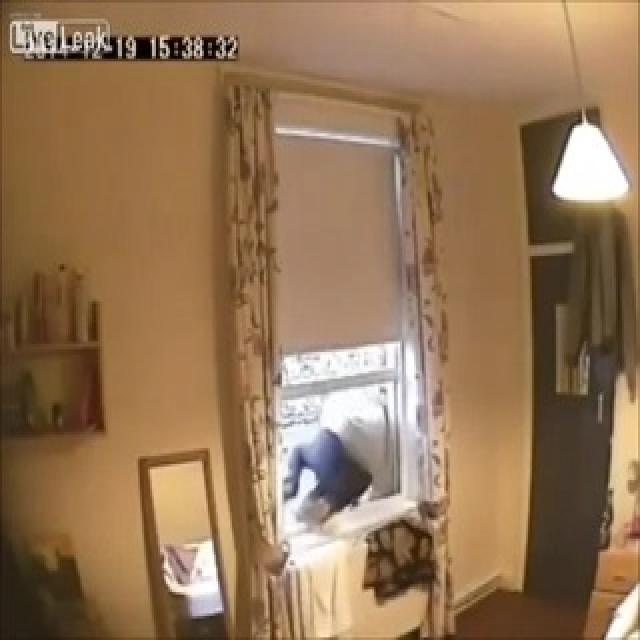thief: (323, 383, 387, 468)
